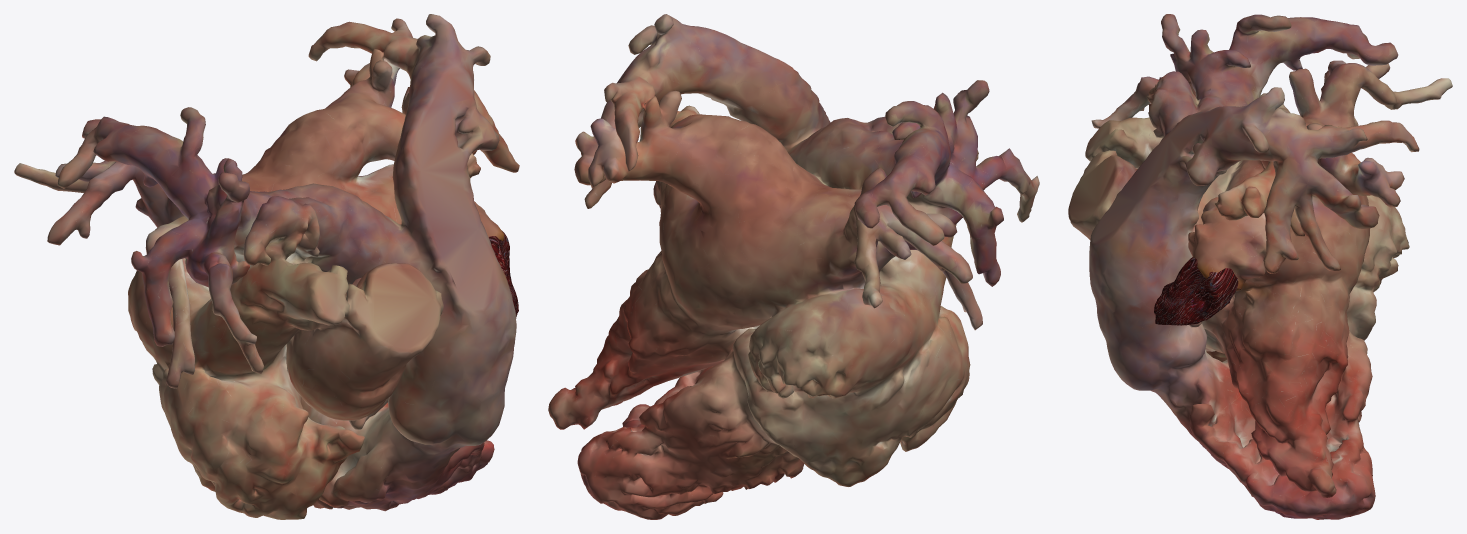
The model's file is thrombus.glb.
3 views of the same model, side by side, from view 1: azimuth 30°, elevation 25°; view 2: azimuth 150°, elevation 25°; view 3: azimuth 270°, elevation 25° (orthographic). The views are drawn at different scales.
Visible parts, largest first — view 1: Mesh_1, Mesh_2; view 2: Mesh_1; view 3: Mesh_1, Mesh_2.
Part boxes in pixels (box(x1,y1,x2,y2)): Mesh_1: box(14, 14, 519, 519); Mesh_2: box(489, 230, 518, 316); Mesh_1: box(548, 14, 1039, 519); Mesh_1: box(1068, 14, 1452, 519); Mesh_2: box(1154, 257, 1238, 325).
Bounding box in the file's own units: 0.1599 × 0.1687 × 0.1355.
3 materials, 2 textured.
